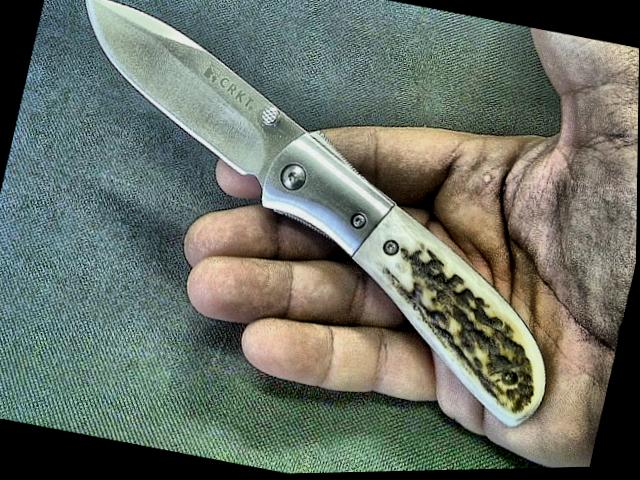knife: (16, 0, 447, 320)
